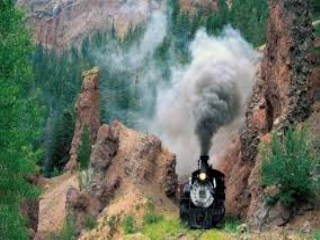smoke: (178, 47, 247, 162)
